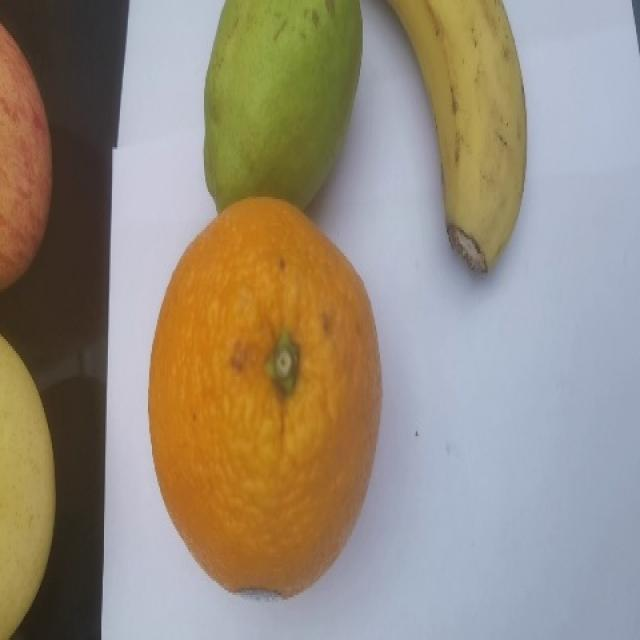Apple: (0, 20, 53, 292)
Banana: (384, 0, 527, 274)
Orange: (147, 195, 382, 599)
